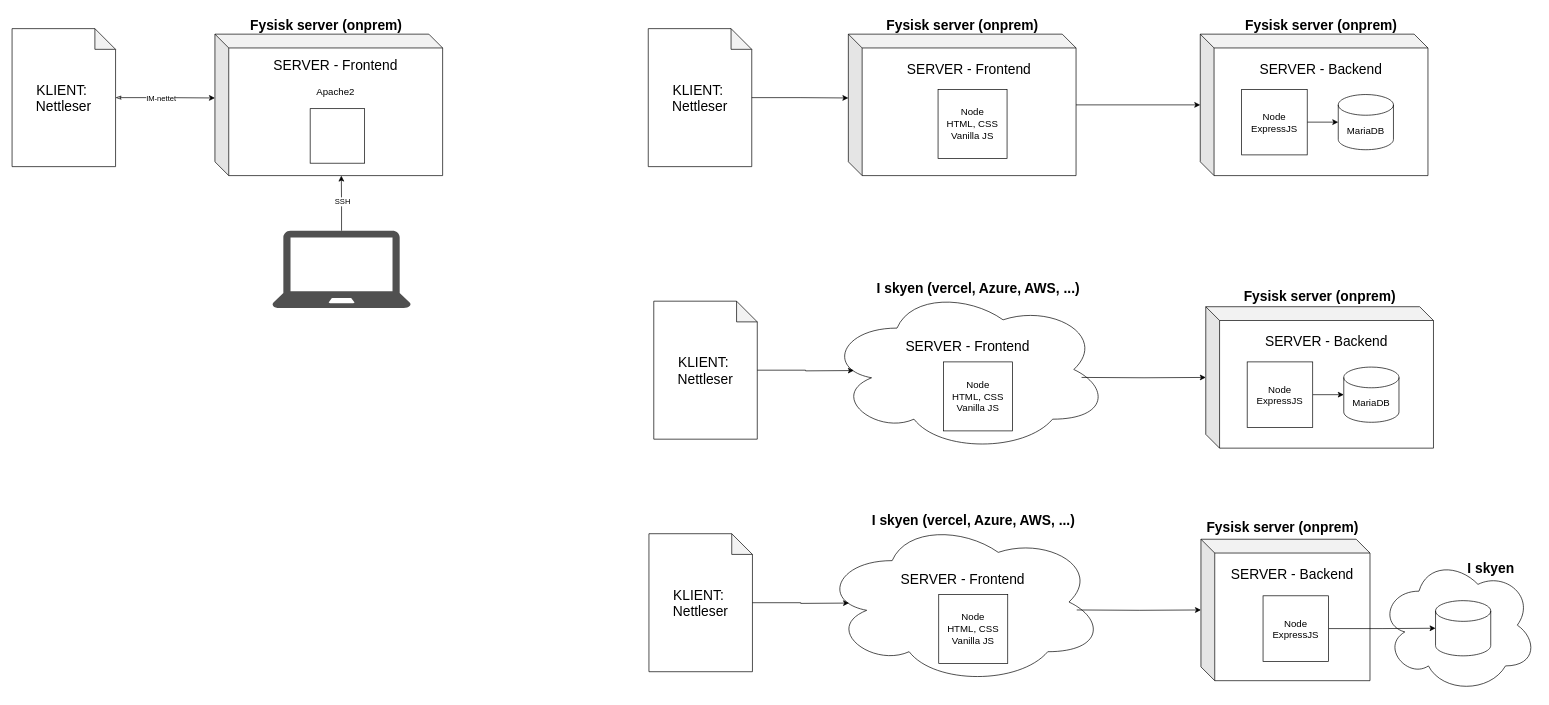
Image size: 1549x705. Some labels were removed from this diagram. Each missing label, with the centre of its shape:
"Din Mac" goes at point 341,269.
"index.html" goes at point 337,135.
"Supabase" goes at point 1463,628.
